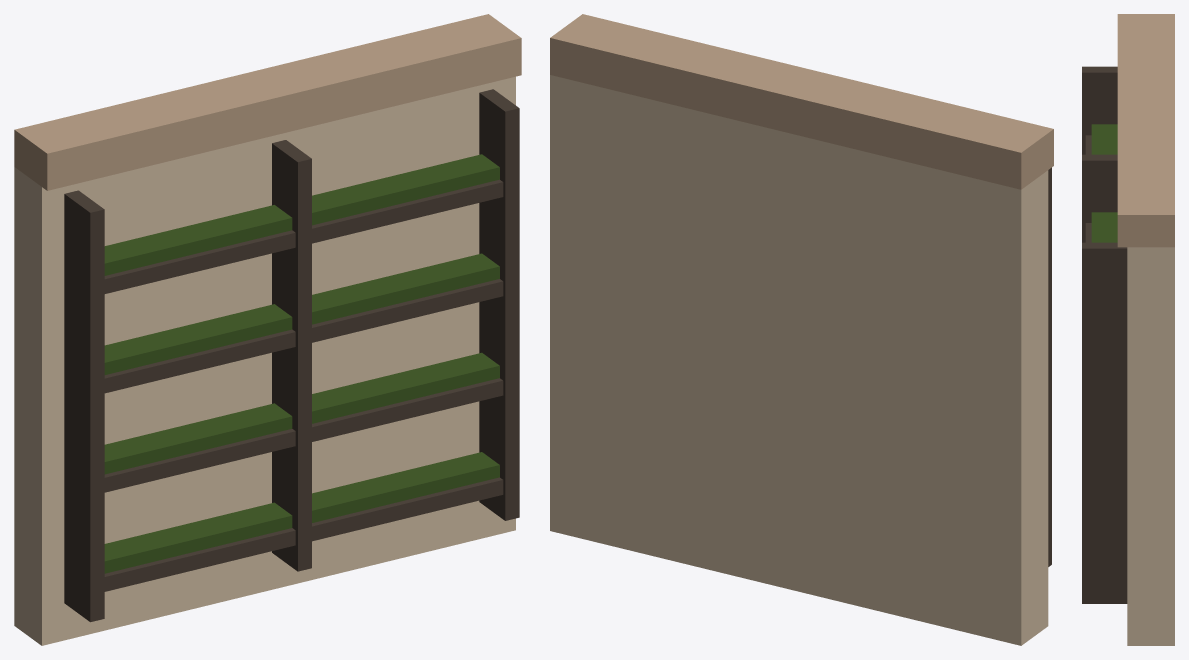
Rendered from city_facade_green_b.glb.
3 renders of one model, left to right at view 1: azimuth 30°, elevation 25°; view 2: azimuth 150°, elevation 25°; view 3: azimuth 270°, elevation 25°, orthographic. The views are drawn at different scales.
Visible parts, largest first — view 1: CityFacadeGreenB_Wall, CityFacadeGreenB_Band, CityFacadeGreenB_Stile0.25, CityFacadeGreenB_Stile3.75, CityFacadeGreenB_Stile2.00, CityFacadeGreenB_Moss1, CityFacadeGreenB_Moss0, CityFacadeGreenB_Moss2, CityFacadeGreenB_Moss3, CityFacadeGreenB_Ledge0, CityFacadeGreenB_Ledge1, CityFacadeGreenB_Ledge2 (+1 smaller); view 2: CityFacadeGreenB_Wall, CityFacadeGreenB_Band, CityFacadeGreenB_Stile0.25; view 3: CityFacadeGreenB_Wall, CityFacadeGreenB_Stile3.75, CityFacadeGreenB_Band, CityFacadeGreenB_Stile0.25, CityFacadeGreenB_Stile2.00, CityFacadeGreenB_Moss3, CityFacadeGreenB_Ledge3.
Part boxes in pixels (box(x1,y1,x2,y2)): CityFacadeGreenB_Wall: box(14, 76, 515, 645); CityFacadeGreenB_Band: box(14, 14, 521, 190); CityFacadeGreenB_Stile0.25: box(64, 190, 104, 622); CityFacadeGreenB_Stile3.75: box(479, 89, 519, 520); CityFacadeGreenB_Stile2.00: box(272, 140, 311, 571); CityFacadeGreenB_Moss1: box(104, 352, 499, 474); CityFacadeGreenB_Moss0: box(104, 452, 499, 573); CityFacadeGreenB_Moss2: box(104, 253, 499, 374); CityFacadeGreenB_Moss3: box(104, 154, 499, 275); CityFacadeGreenB_Ledge0: box(104, 477, 503, 591); CityFacadeGreenB_Ledge1: box(104, 378, 503, 492); CityFacadeGreenB_Ledge2: box(104, 279, 503, 393); CityFacadeGreenB_Wall: box(550, 75, 1048, 645); CityFacadeGreenB_Band: box(550, 14, 1053, 189); CityFacadeGreenB_Stile0.25: box(1048, 167, 1051, 566); CityFacadeGreenB_Wall: box(1127, 247, 1174, 645); CityFacadeGreenB_Stile3.75: box(1082, 242, 1127, 603); CityFacadeGreenB_Band: box(1117, 14, 1174, 247); CityFacadeGreenB_Stile0.25: box(1082, 66, 1117, 154); CityFacadeGreenB_Stile2.00: box(1082, 154, 1117, 242); CityFacadeGreenB_Moss3: box(1091, 124, 1117, 242); CityFacadeGreenB_Ledge3: box(1085, 135, 1091, 242).
Size of the model in its own units: 4 by 4 by 0.78.
